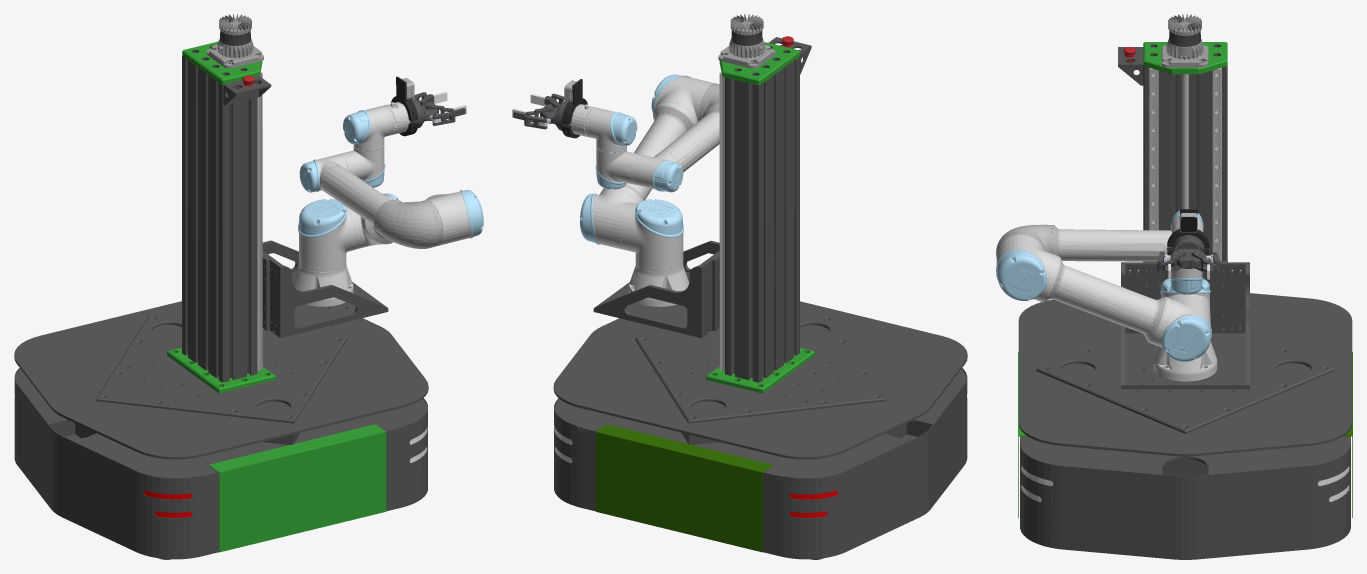
Rendered from mmp_ridgeback_ur5e.glb.
3 renders of one model, left to right at view 1: azimuth 30°, elevation 25°; view 2: azimuth 150°, elevation 25°; view 3: azimuth 270°, elevation 25°, orthographic. The views are drawn at different scales.
Visible parts, largest first — view 1: mmp_ridgeback_primitive12, mmp_ridgeback_primitive17, mmp_ridgeback_primitive3, mmp_ridgeback_primitive13, mmp_ridgeback_primitive10, mmp_ridgeback_primitive11, mmp_ridgeback_primitive8, node19, mmp_ridgeback_primitive14, mmp_ridgeback_primitive6; view 2: mmp_ridgeback_primitive12, mmp_ridgeback_primitive17, mmp_ridgeback_primitive1, mmp_ridgeback_primitive13, mmp_ridgeback_primitive11, mmp_ridgeback_primitive8, mmp_ridgeback_primitive10, node19, mmp_ridgeback_primitive14, mmp_ridgeback_primitive6; view 3: mmp_ridgeback_primitive12, mmp_ridgeback_primitive17, mmp_ridgeback_primitive13, mmp_ridgeback_primitive10, mmp_ridgeback_primitive11, node19, mmp_ridgeback_primitive14, mmp_ridgeback_primitive8, mmp_ridgeback_primitive0, mmp_ridgeback_primitive6.
Part boxes in pixels (x1=…): mmp_ridgeback_primitive12: x1=14, y1=301, x2=428, y2=559; mmp_ridgeback_primitive17: x1=96, y1=45, x2=388, y2=423; mmp_ridgeback_primitive3: x1=208, y1=424, x2=386, y2=552; mmp_ridgeback_primitive13: x1=293, y1=102, x2=470, y2=306; mmp_ridgeback_primitive10: x1=257, y1=72, x2=443, y2=370; mmp_ridgeback_primitive11: x1=298, y1=110, x2=483, y2=238; mmp_ridgeback_primitive8: x1=167, y1=41, x2=275, y2=393; node19: x1=207, y1=14, x2=263, y2=68; mmp_ridgeback_primitive14: x1=399, y1=92, x2=455, y2=128; mmp_ridgeback_primitive6: x1=391, y1=76, x2=418, y2=136; mmp_ridgeback_primitive12: x1=553, y1=301, x2=967, y2=559; mmp_ridgeback_primitive17: x1=593, y1=37, x2=885, y2=423; mmp_ridgeback_primitive1: x1=596, y1=424, x2=773, y2=552; mmp_ridgeback_primitive13: x1=569, y1=75, x2=719, y2=306; mmp_ridgeback_primitive11: x1=580, y1=74, x2=686, y2=244; mmp_ridgeback_primitive8: x1=706, y1=42, x2=814, y2=393; mmp_ridgeback_primitive10: x1=623, y1=72, x2=724, y2=371; node19: x1=718, y1=14, x2=775, y2=68; mmp_ridgeback_primitive14: x1=513, y1=93, x2=579, y2=130; mmp_ridgeback_primitive6: x1=561, y1=79, x2=587, y2=138; mmp_ridgeback_primitive12: x1=1018, y1=293, x2=1352, y2=559; mmp_ridgeback_primitive17: x1=1036, y1=44, x2=1334, y2=433; mmp_ridgeback_primitive13: x1=996, y1=216, x2=1217, y2=381; mmp_ridgeback_primitive10: x1=996, y1=67, x2=1221, y2=271; mmp_ridgeback_primitive11: x1=996, y1=208, x2=1211, y2=361; node19: x1=1161, y1=14, x2=1208, y2=67; mmp_ridgeback_primitive14: x1=1157, y1=235, x2=1220, y2=276; mmp_ridgeback_primitive8: x1=1143, y1=42, x2=1227, y2=74; mmp_ridgeback_primitive0: x1=1021, y1=466, x2=1349, y2=501; mmp_ridgeback_primitive6: x1=1167, y1=209, x2=1209, y2=268.
Size of the model in its own units: 113 by 124 by 84.52.
